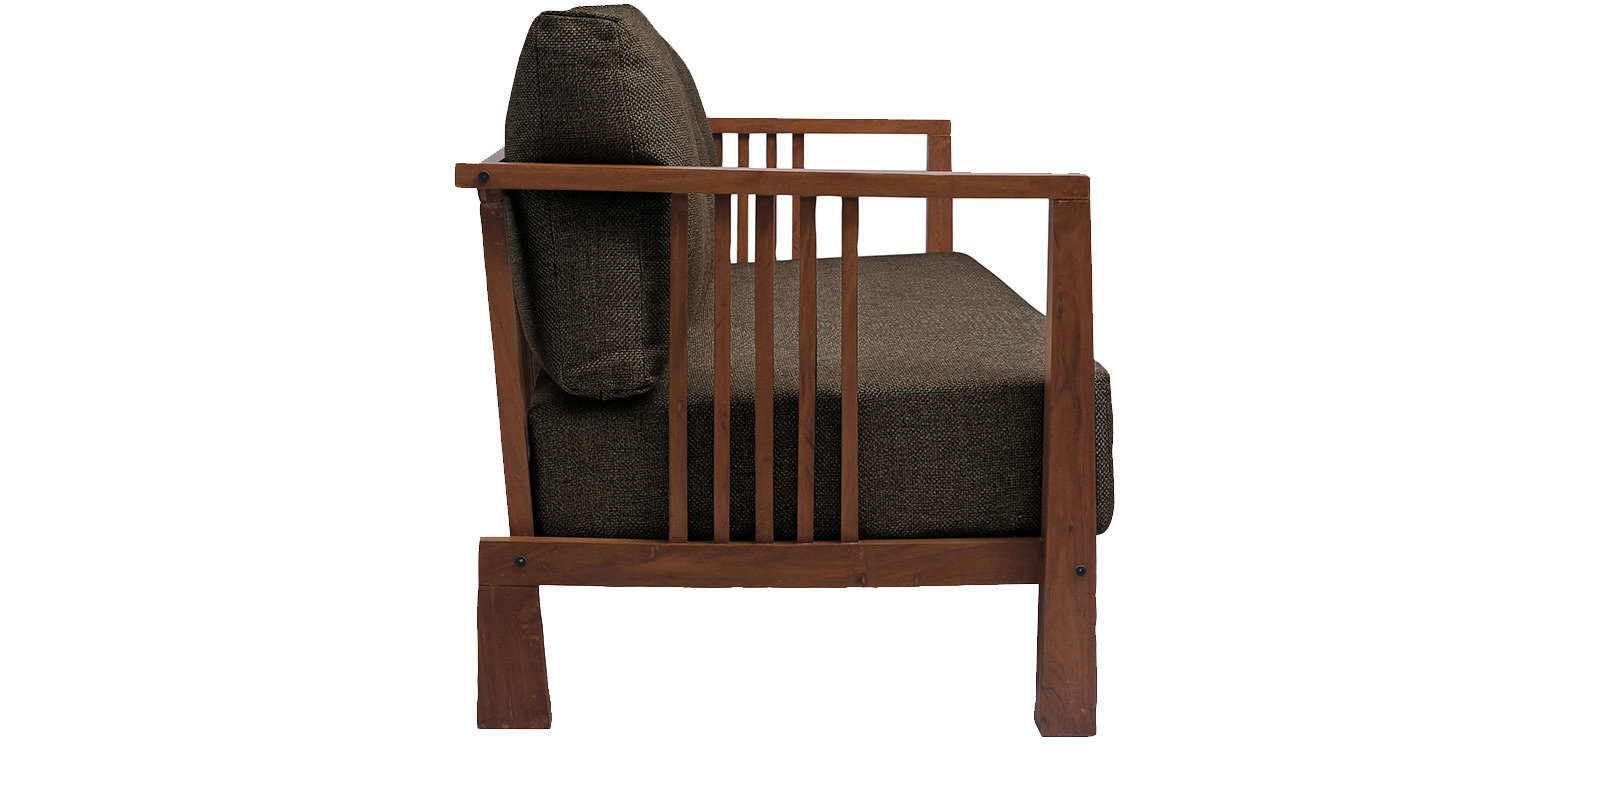Dijon Three Seater Sofa in Dark Brown Colour by Auspicious Home: (455, 1, 1118, 764)
